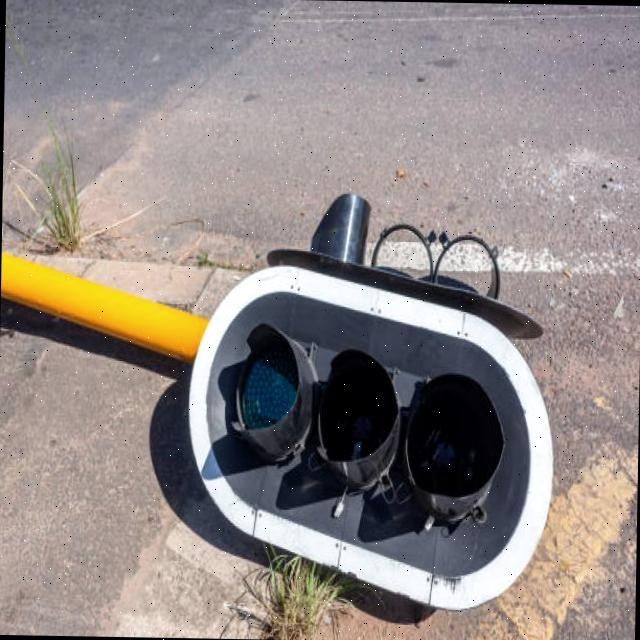Broken Pole: (0, 149, 566, 613)
